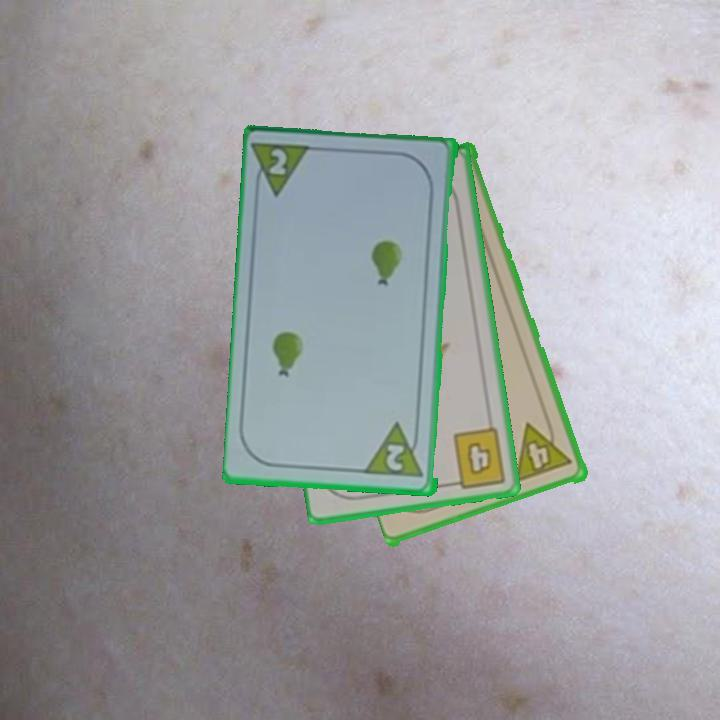2p: (383, 441, 409, 474), (266, 145, 291, 179)
4b: (445, 424, 510, 491)
4p: (512, 415, 576, 485)
